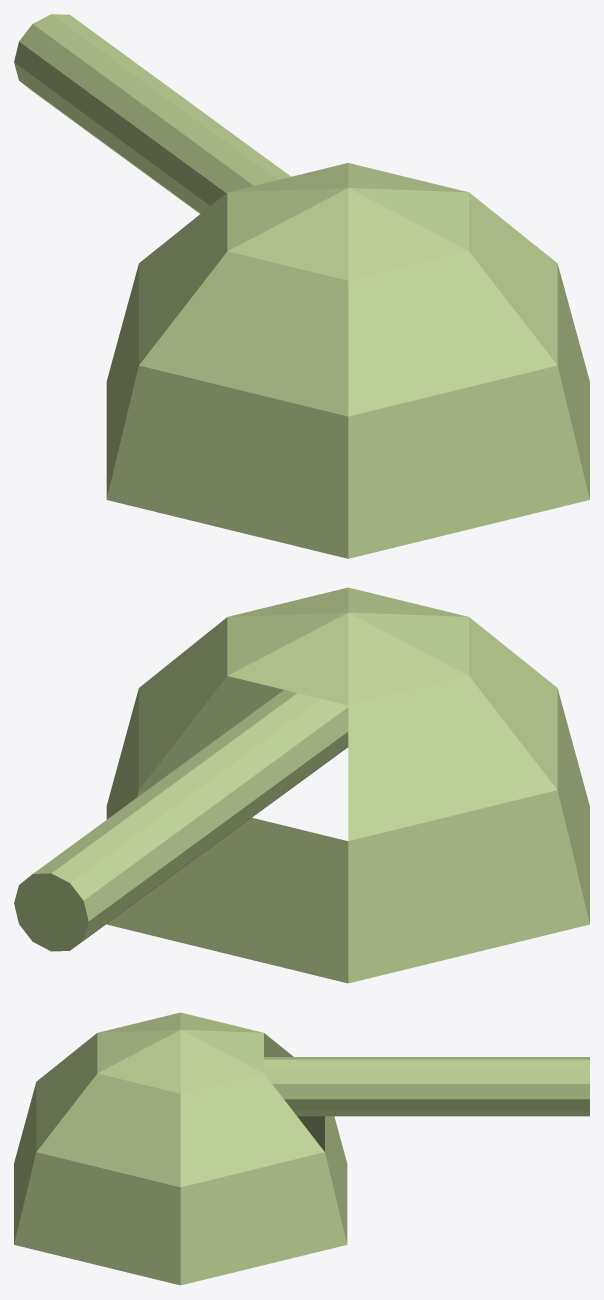
Rendered from tank_turret.glb.
3 views of the same model, one above another, from view 1: azimuth 30°, elevation 25°; view 2: azimuth 150°, elevation 25°; view 3: azimuth 270°, elevation 25° (orthographic). The views are drawn at different scales.
Visible parts, largest first — view 1: turret; view 2: turret; view 3: turret.
Boxes of the visible parts, x1,y1,x2,y2 form: turret: [14, 14, 589, 558]; turret: [14, 587, 589, 983]; turret: [14, 1012, 589, 1285].
Bounding box in the file's own units: 0.9067 × 0.4534 × 1.36.
